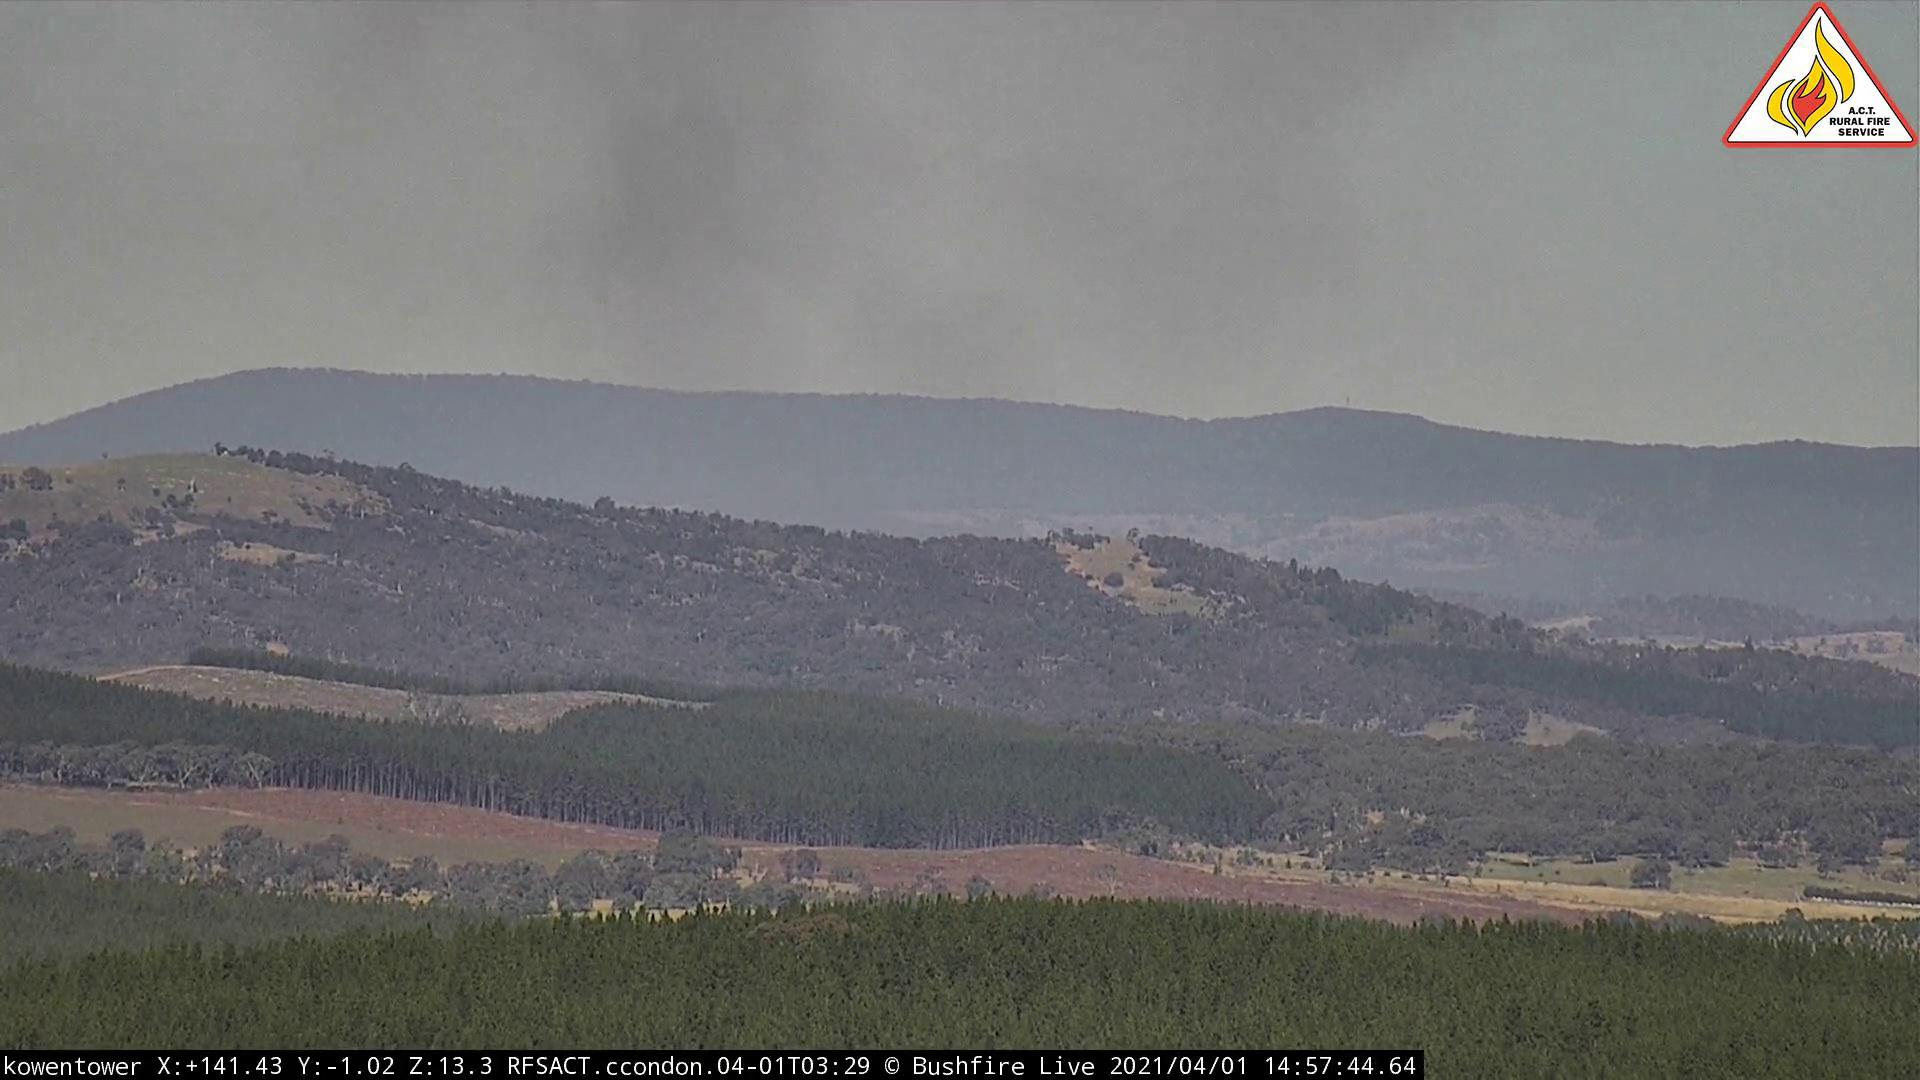instance_salient_object: (386, 3, 1394, 388)
